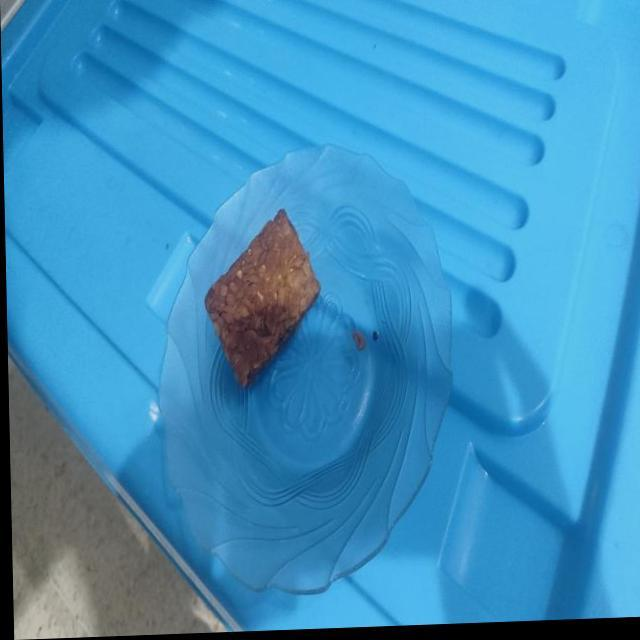tempe_goreng: (205, 210, 320, 388)
